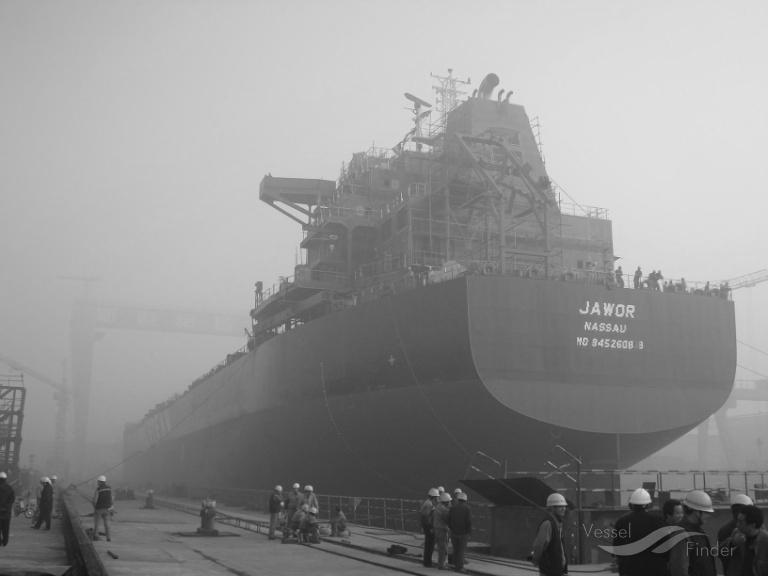OCR: (578, 292, 650, 357), (126, 414, 178, 451)
